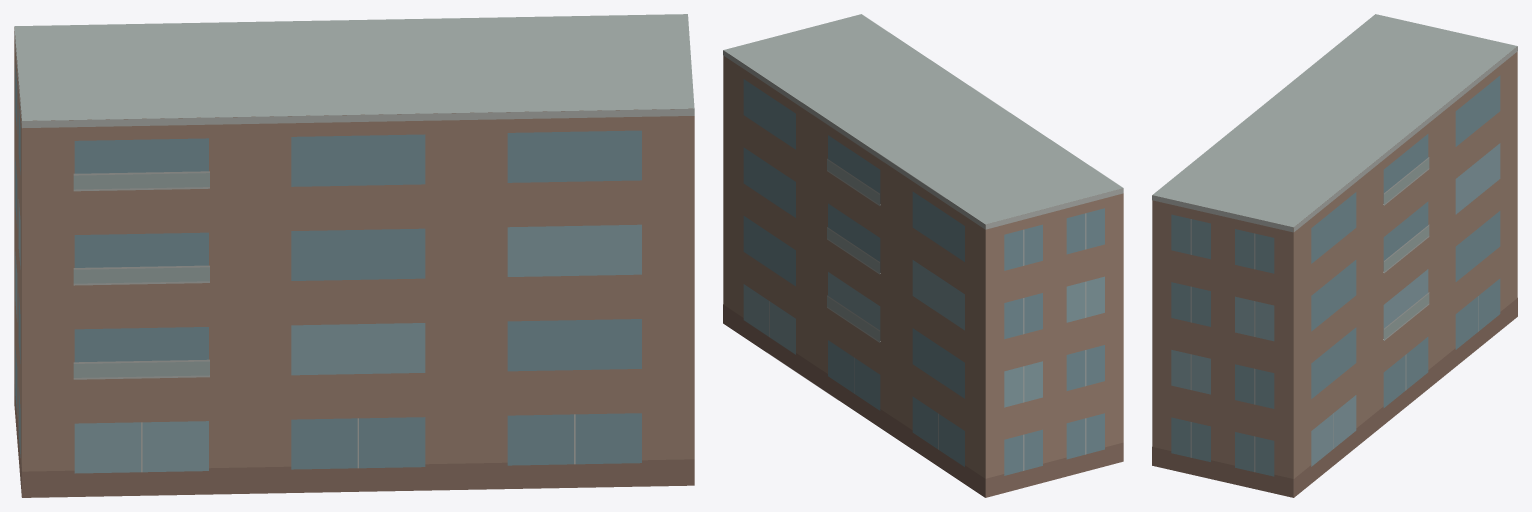
Rendered from survey-upis-32671426.glb.
3 renders of one model, left to right at view 1: azimuth 30°, elevation 25°; view 2: azimuth 150°, elevation 25°; view 3: azimuth 270°, elevation 25°, orthographic. The views are drawn at different scales.
Parts seen in each view (by area): view 1: survey-upis-32671426.tmp; view 2: survey-upis-32671426.tmp; view 3: survey-upis-32671426.tmp.
Part boxes in pixels (x1,y1,x2,y2): survey-upis-32671426.tmp: [14, 14, 694, 497]; survey-upis-32671426.tmp: [723, 14, 1123, 497]; survey-upis-32671426.tmp: [1152, 14, 1517, 497].
Size of the model in its own units: 21.66 by 12.8 by 15.68.
